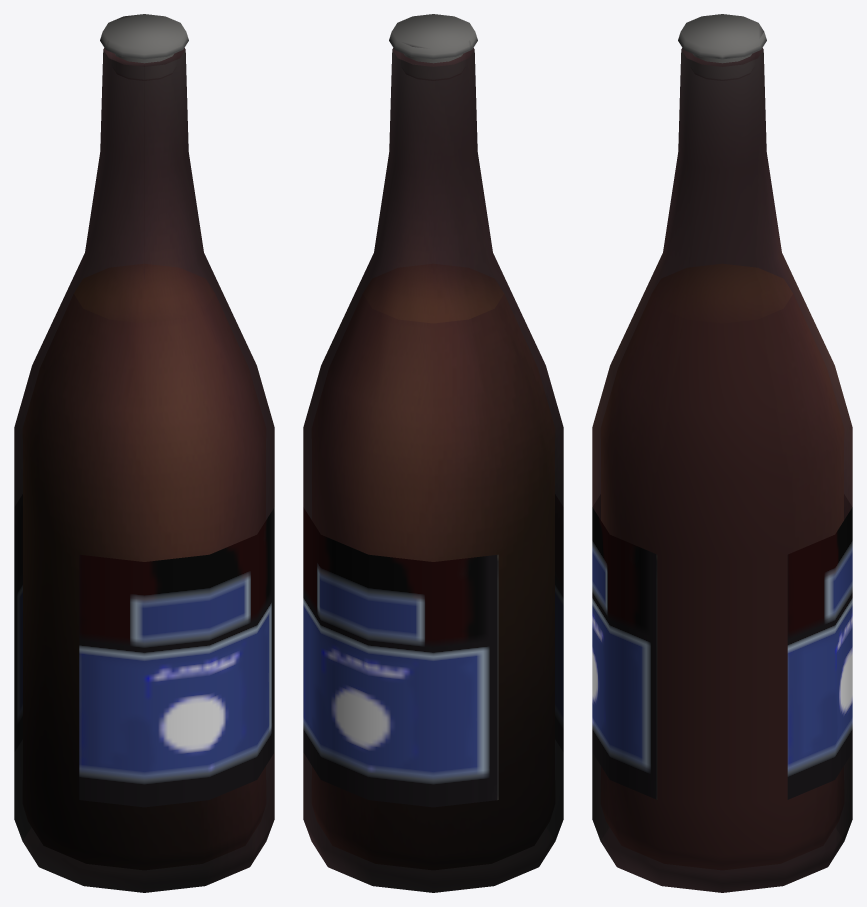
Rendered from sake01b.fbx.
The picture shows the model from 3 angles, left to right: view 1: azimuth 30°, elevation 25°; view 2: azimuth 150°, elevation 25°; view 3: azimuth 270°, elevation 25°; orthographic projection.
Visible parts, largest first — view 1: sake01b; view 2: sake01b; view 3: sake01b.
Boxes of the visible parts, x1,y1,x2,y2 form: sake01b: [14, 14, 274, 892]; sake01b: [303, 14, 563, 892]; sake01b: [592, 14, 852, 892].
Bounding box in the file's own units: 13.37 × 45.94 × 13.37.
